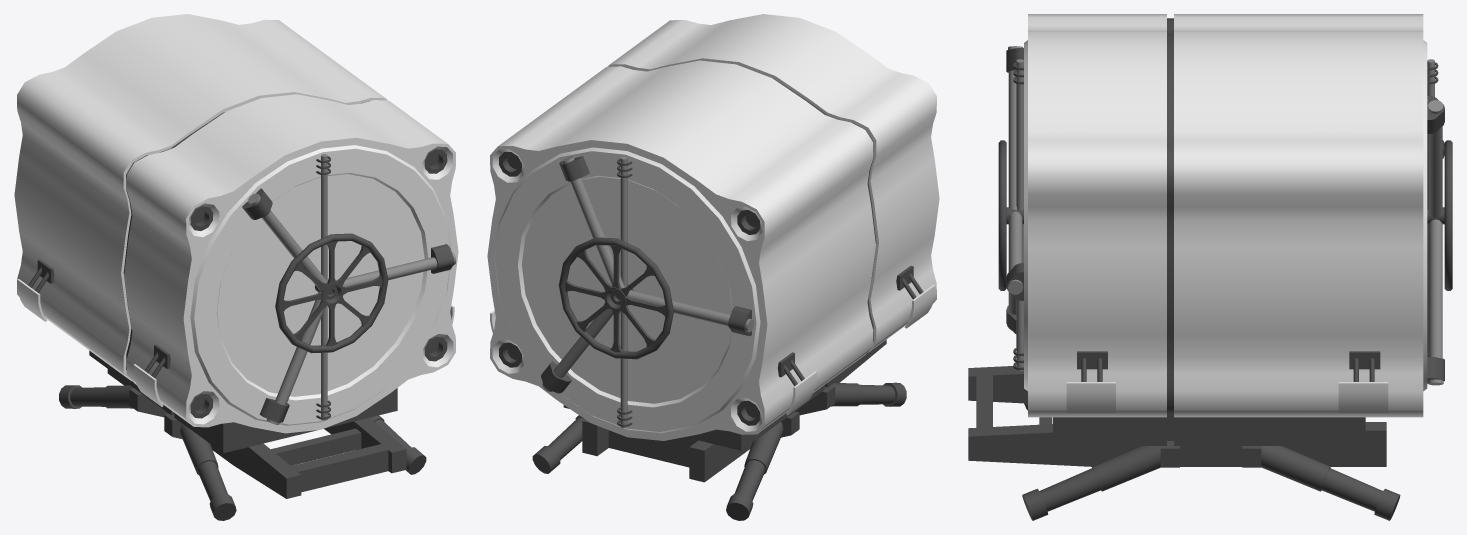
Rendered from trailer3.obj.
The picture shows the model from 3 angles, left to right: view 1: azimuth 30°, elevation 25°; view 2: azimuth 150°, elevation 25°; view 3: azimuth 270°, elevation 25°; orthographic projection. The views are drawn at different scales.
Visible parts, largest first — view 1: trailer3; view 2: trailer3; view 3: trailer3.
Boxes of the visible parts, left/top/right/bottom form: trailer3: left=14, top=14, right=458, bottom=520; trailer3: left=487, top=14, right=939, bottom=520; trailer3: left=968, top=14, right=1452, bottom=520.
Size of the model in its own units: 1.6 by 1.82 by 1.92.
Materials: 1 (1 with a texture image).
